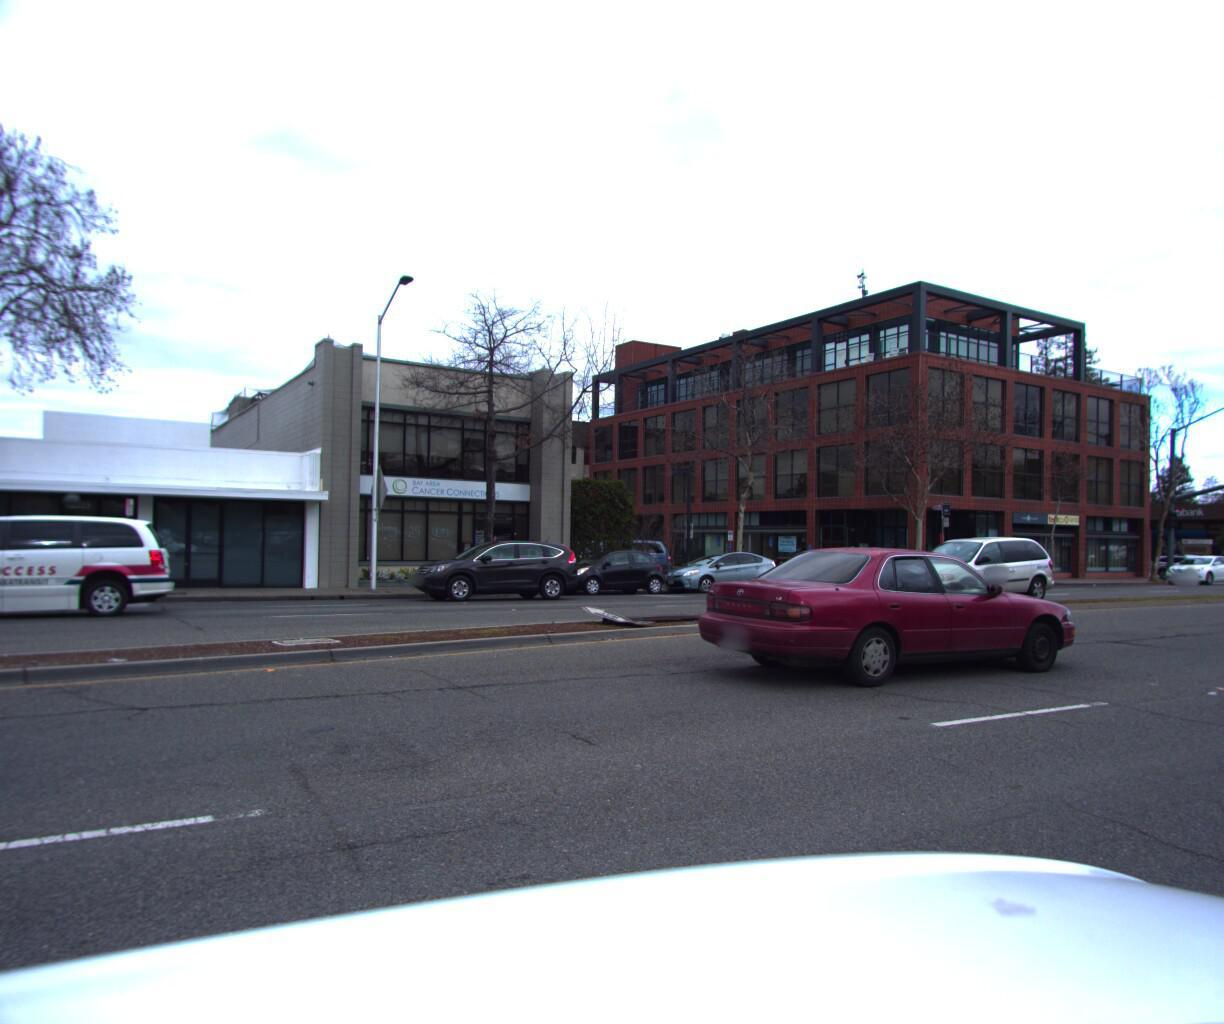car: (677, 534, 1085, 698), (400, 530, 588, 602), (881, 528, 1059, 602), (539, 545, 675, 596), (655, 545, 785, 592), (577, 534, 676, 574), (768, 545, 859, 574), (1152, 550, 1224, 584)
